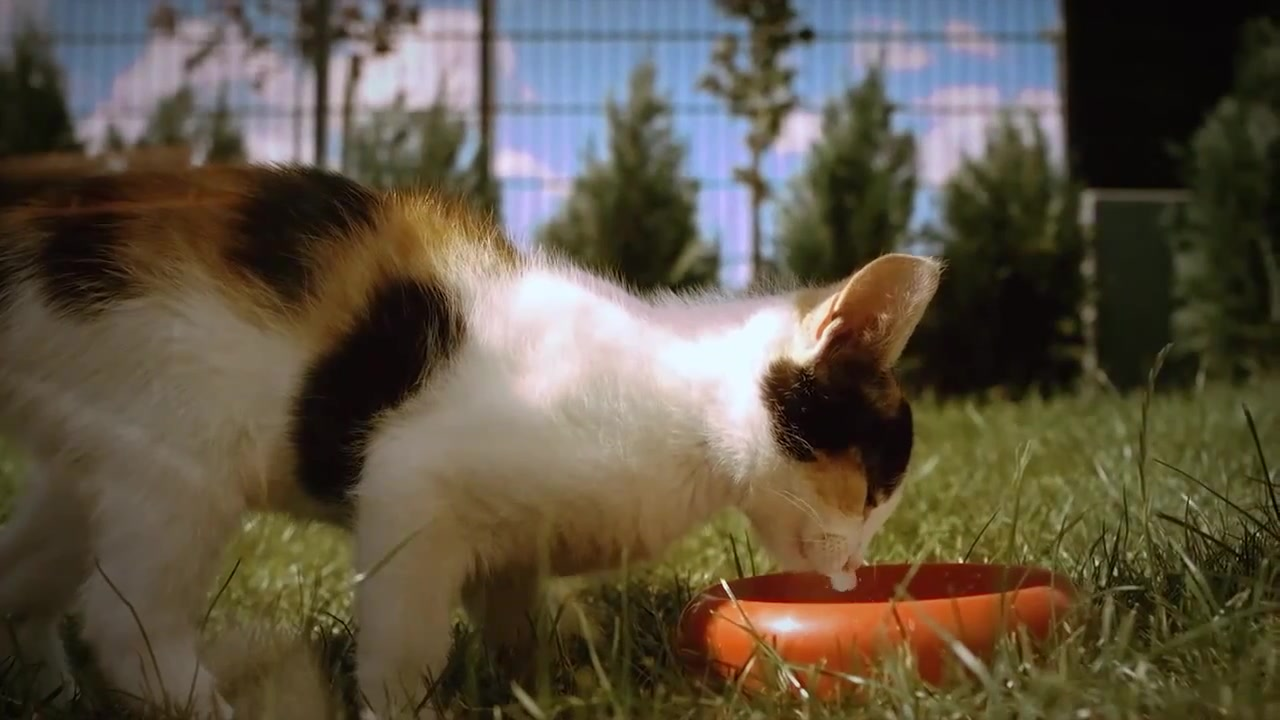cat: (3, 138, 943, 720)
